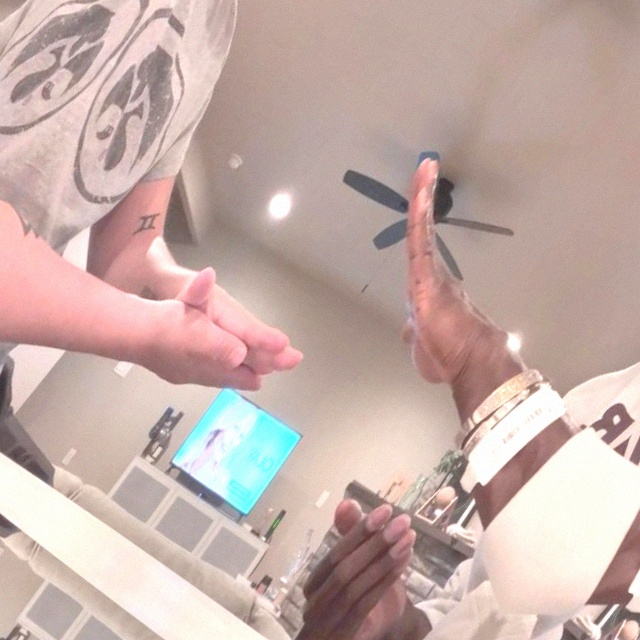Paper: (314, 153, 558, 403), (161, 255, 319, 395)
